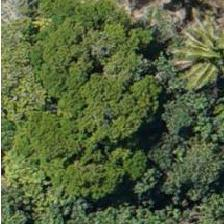coconut_tree: (173, 0, 223, 89)
